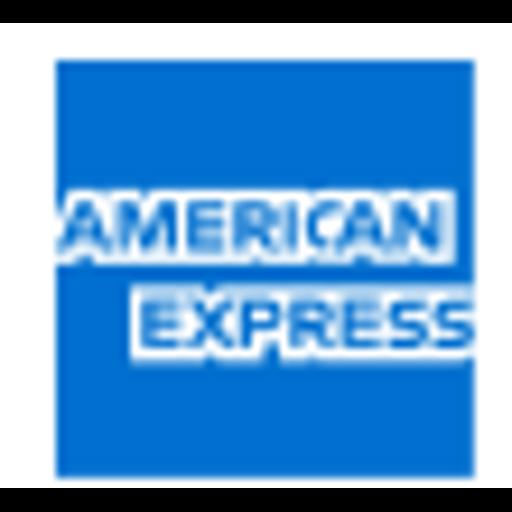American Express: (0, 23, 512, 488)
